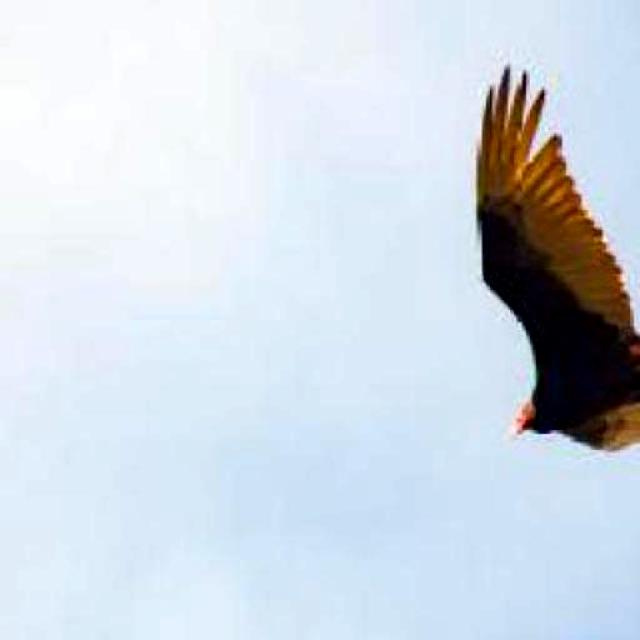airplane: (479, 72, 640, 459)
